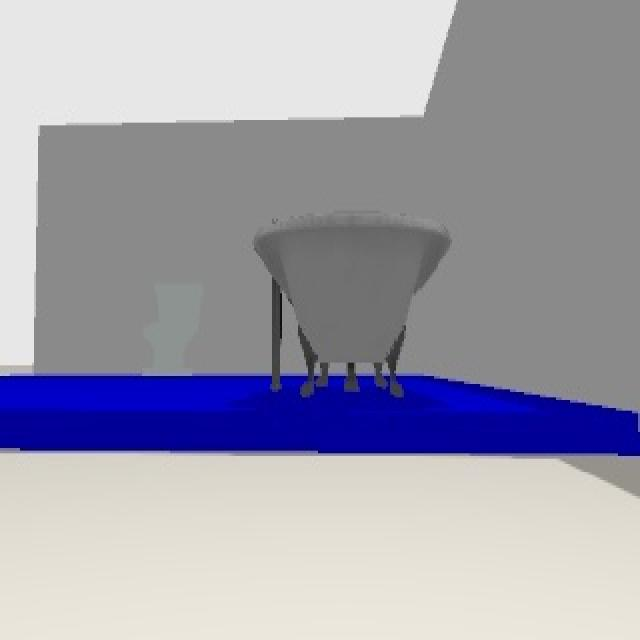bathtub: (253, 212, 454, 402)
